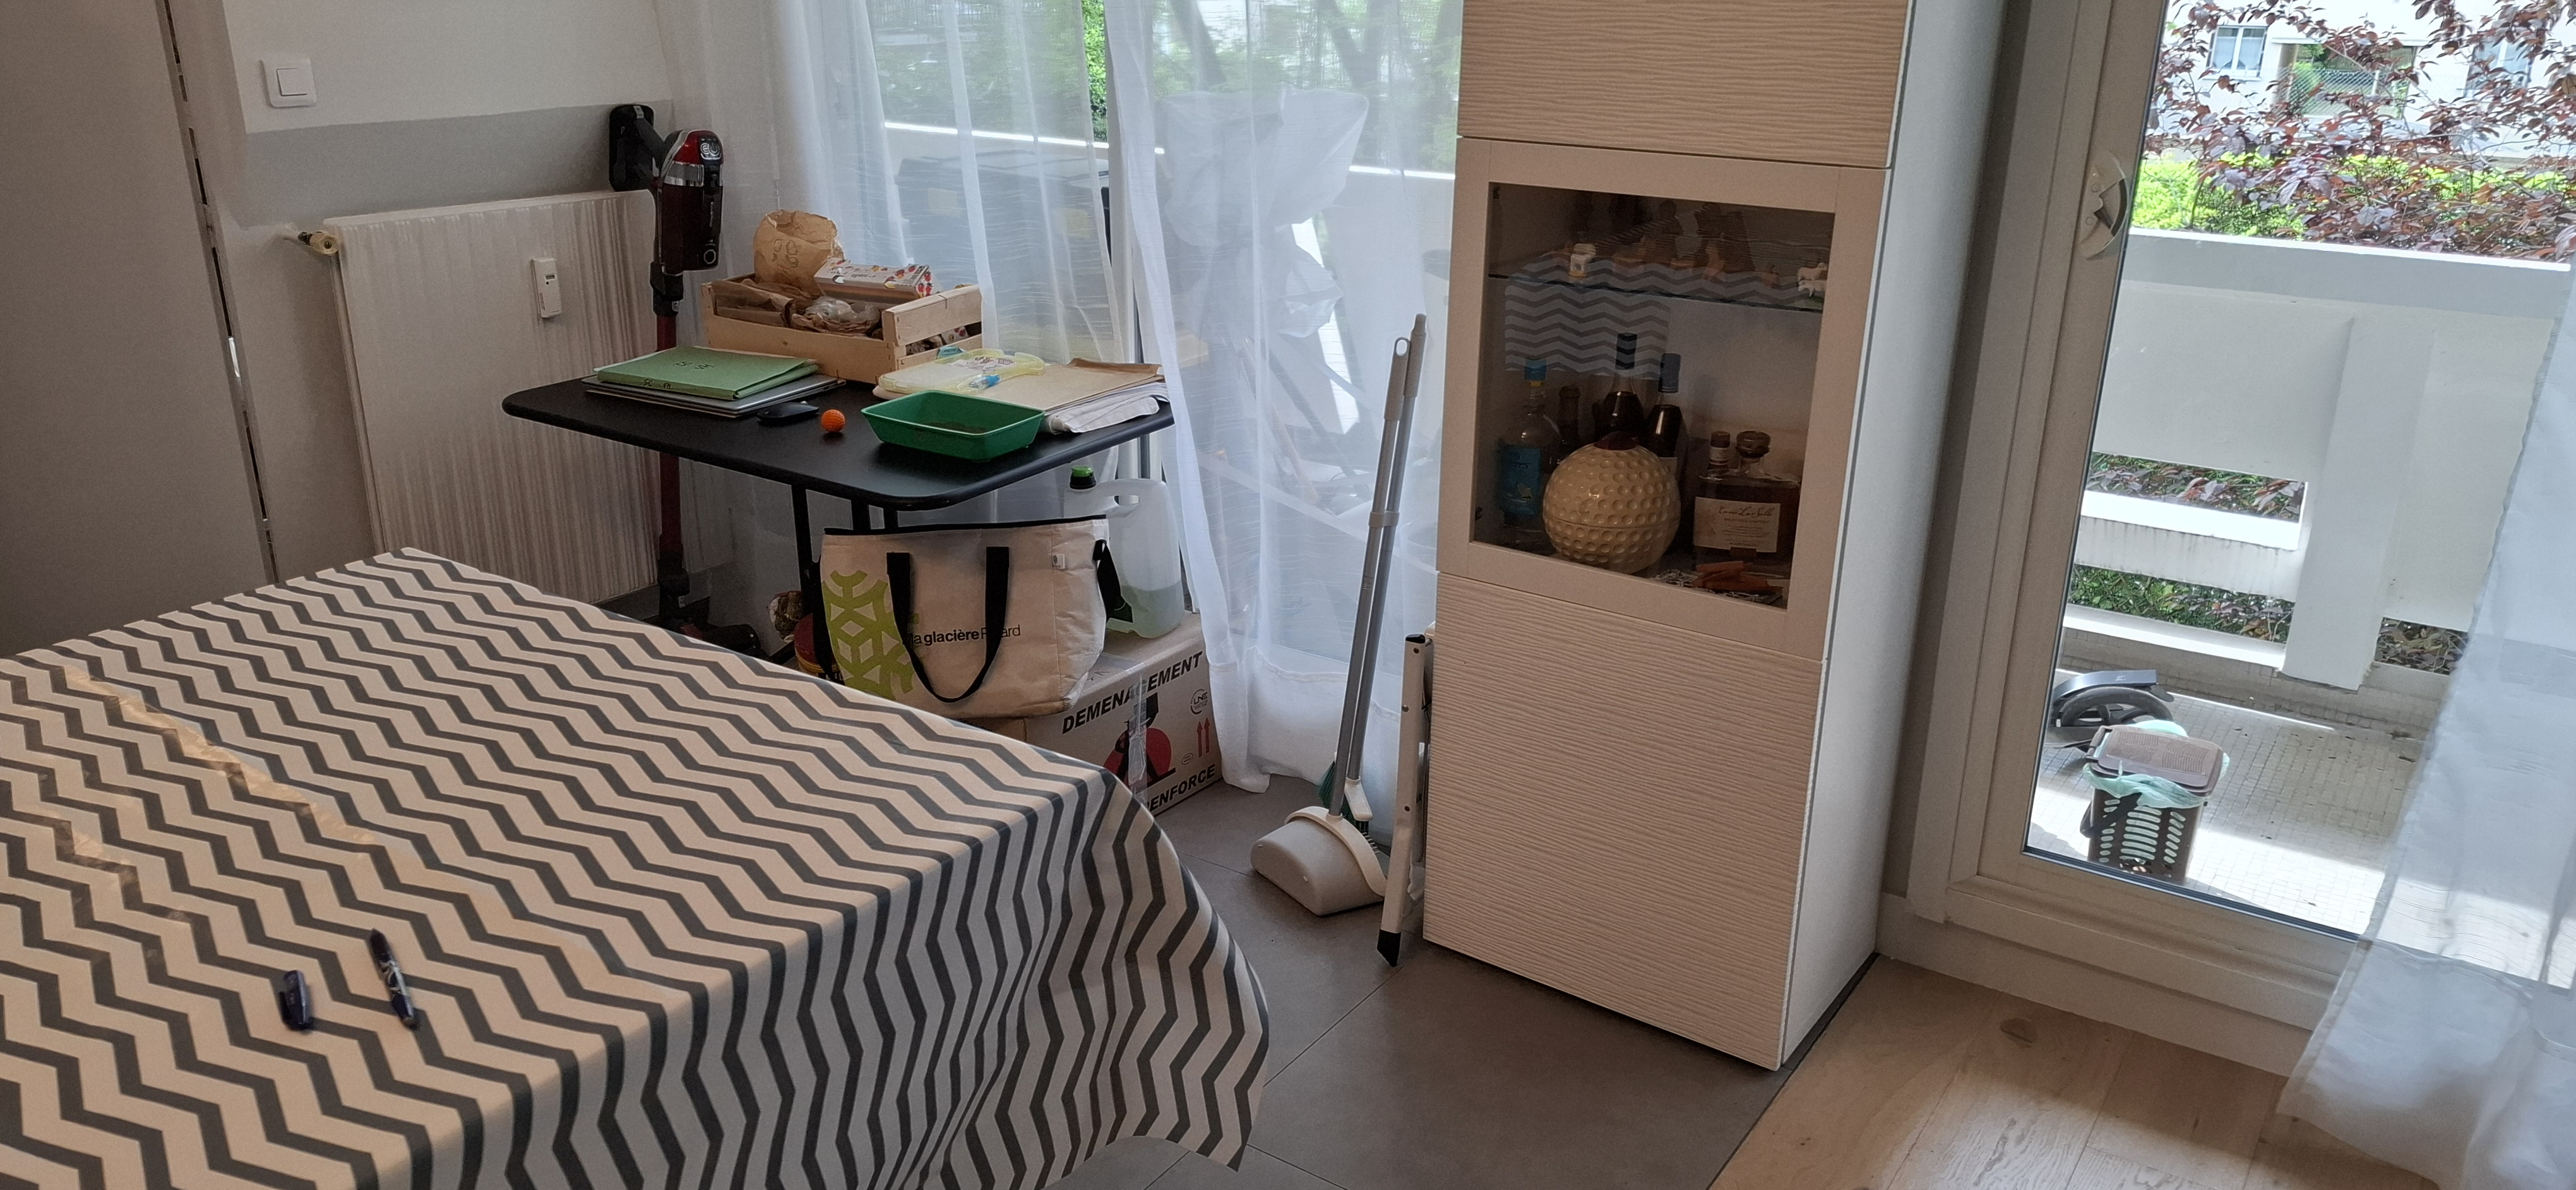ball: (821, 409, 846, 432)
